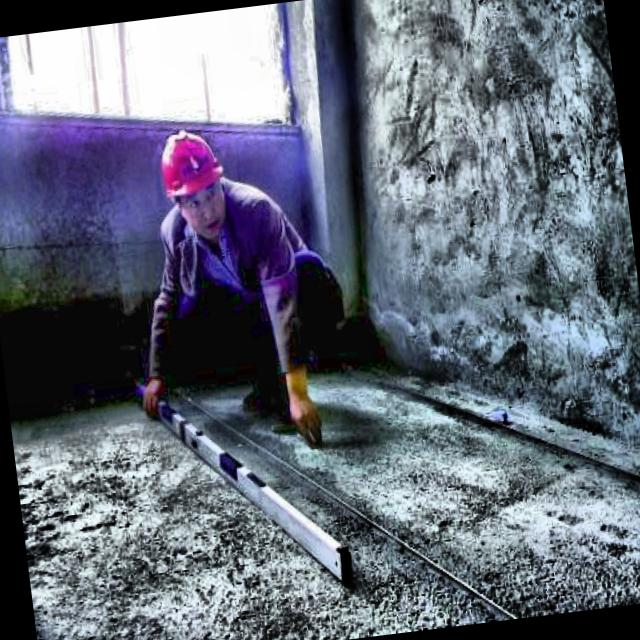helmet: (153, 124, 234, 240)
